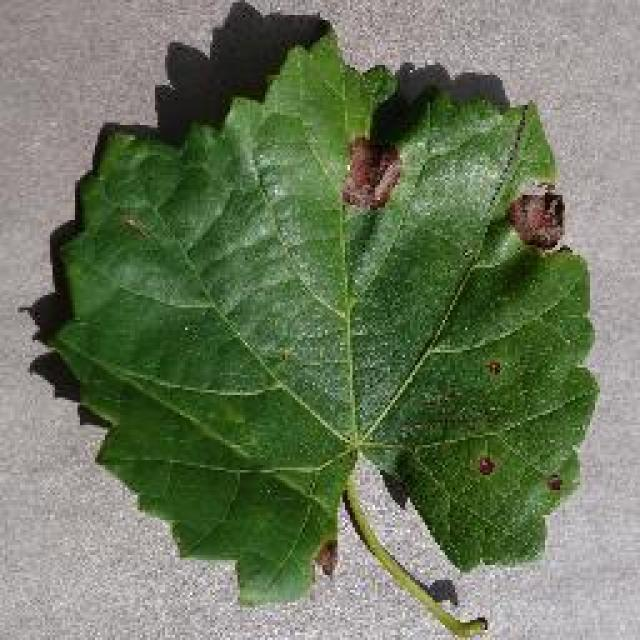Grape___Black_rot: (38, 23, 602, 638)
